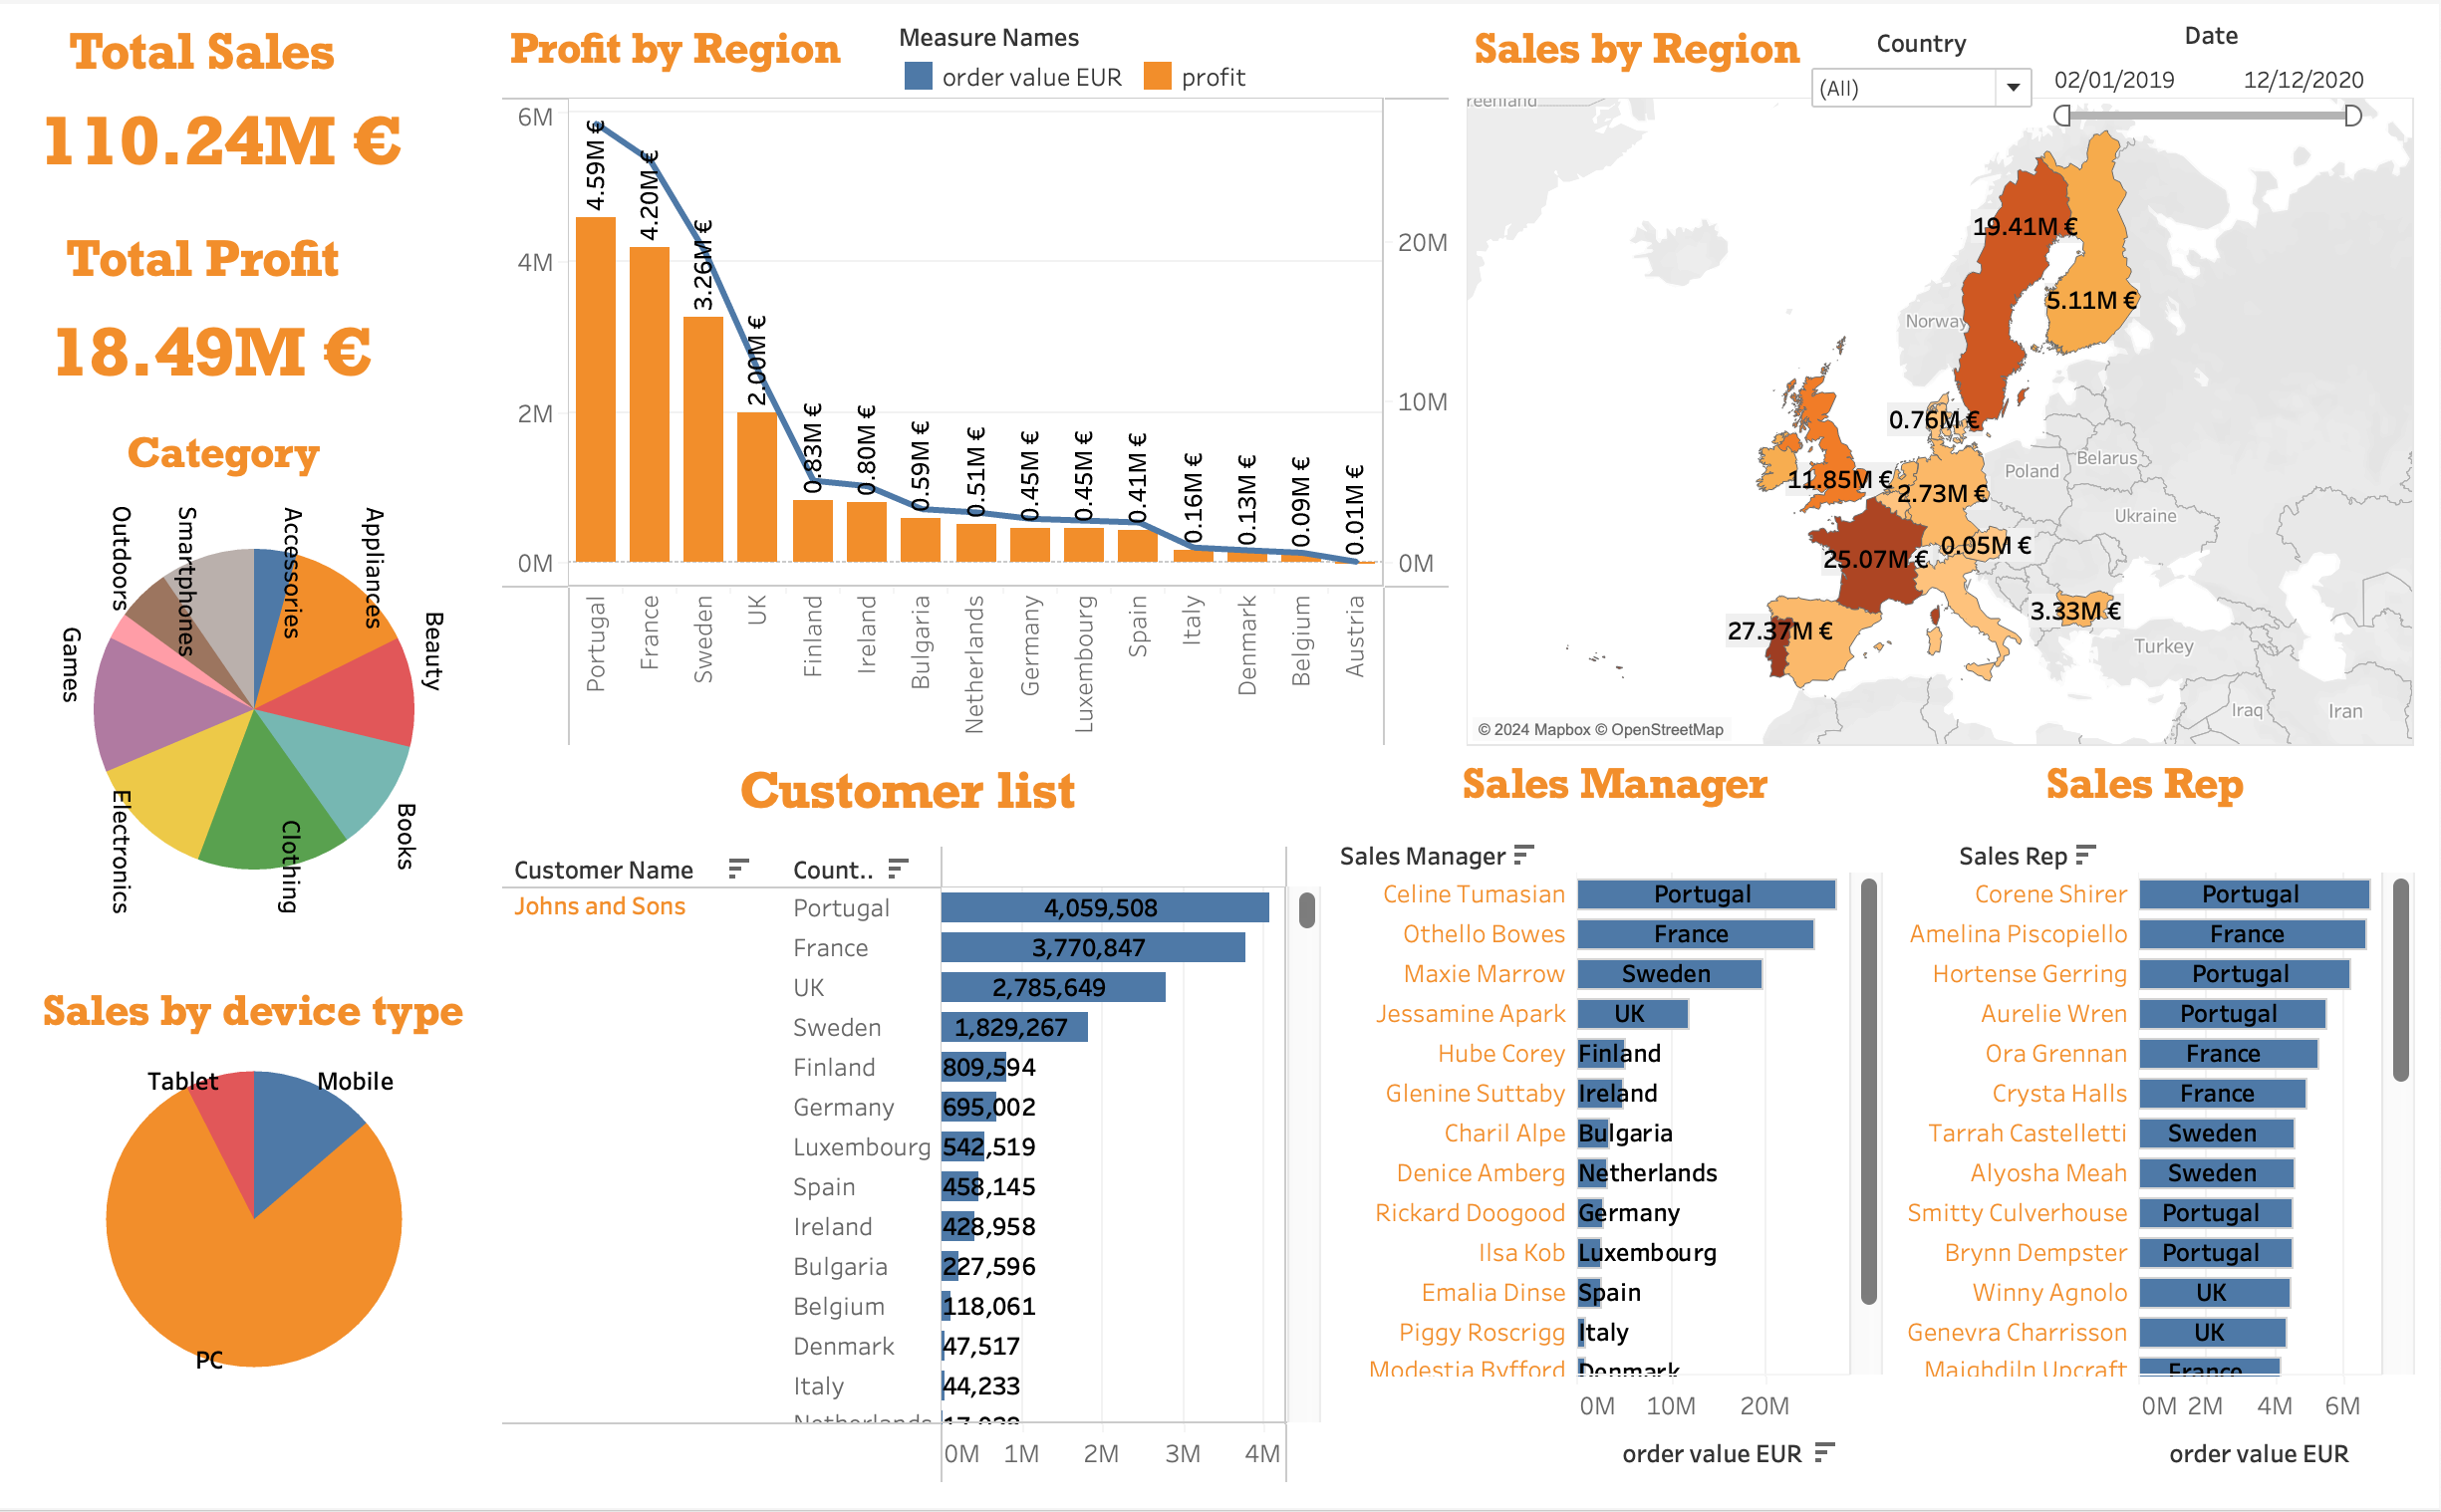

Layout of this report page (visuals, bound fields, positions):
{"tool":"tableau","page":{"name":"Region Sales Insight","canvas":[1000,1000],"units":"permille","ordinal":0},"visuals":[{"type":"filter","title":"Sales by Region","param":"[federated.113zo5w0f69ne617kxgn917k2ui4].[none:date:qk]","box":[838.4,9.3,137.1,82.1]},{"type":"worksheet","title":"Total Sales","mark":"Automatic","box":[6.5,10.6,196.7,137.7]},{"type":"worksheet","title":"Profit by Region","mark":"Line","rows":["Calculation_1614962724884762624","order_value_EUR "],"cols":["country"],"box":[203.3,10.6,395.1,488.7]},{"type":"legend","title":"Profit by Region","param":"[federated.113zo5w0f69ne617kxgn917k2ui4].[:Measure Names]","box":[369,10.6,201.6,53]},{"type":"worksheet","title":"Sales by Region","mark":"Automatic","box":[598.4,10.6,395.1,488.7]},{"type":"filter","title":"Sales by Region","param":"[federated.113zo5w0f69ne617kxgn917k2ui4].[none:country:nk]","box":[740.4,14.6,95.5,60.9]},{"type":"worksheet","title":"Total Profit","mark":"Automatic","box":[6.5,148.3,196.7,131.1]},{"type":"worksheet","title":"Category","mark":"Pie","box":[6.5,279.5,196.7,370.9]},{"type":"worksheet","title":"Customer list","mark":"Automatic","rows":["customer_name","country"],"cols":["order_value_EUR "],"box":[203.3,499.3,341.9,490.1]},{"type":"worksheet","title":"Sales Manager","mark":"Automatic","rows":["sales_manager"],"cols":["order_value_EUR "],"box":[545.1,499.3,230.3,490.1]},{"type":"worksheet","title":"Sales Rep","mark":"Automatic","rows":["sales_rep"],"cols":["order_value_EUR "],"box":[775.4,499.3,218.1,490.1]},{"type":"worksheet","title":"Sales by device type","mark":"Pie","box":[6.5,650.3,196.7,339.1]}]}

Visuals, with their boxes on the dashboard's canvas, which has no fixed pixel size, in thousandths of its width and height (x1, y1, x2, y2). These are canvas units, not pixel positions in the 2441x1512 screenshot, which may show the page scaled, cropped or inside an application window:
"Sales by Region" filter: bbox=[838, 9, 976, 91]
"Total Sales" worksheet: bbox=[6, 11, 203, 148]
"Profit by Region" worksheet (Line marks): bbox=[203, 11, 598, 499]
"Profit by Region" legend: bbox=[369, 11, 571, 64]
"Sales by Region" worksheet: bbox=[598, 11, 994, 499]
"Sales by Region" filter: bbox=[740, 15, 836, 76]
"Total Profit" worksheet: bbox=[6, 148, 203, 279]
"Category" worksheet (Pie marks): bbox=[6, 280, 203, 650]
"Customer list" worksheet: bbox=[203, 499, 545, 989]
"Sales Manager" worksheet: bbox=[545, 499, 775, 989]
"Sales Rep" worksheet: bbox=[775, 499, 994, 989]
"Sales by device type" worksheet (Pie marks): bbox=[6, 650, 203, 989]
